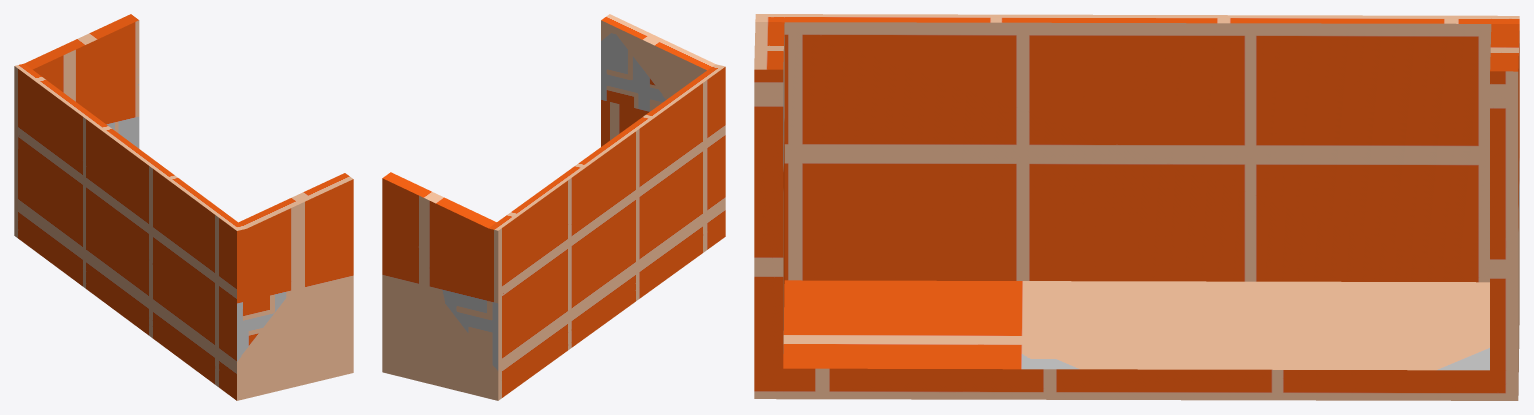
File: düz_balkon.fbx
The picture shows the model from 3 angles, left to right: view 1: azimuth 30°, elevation 25°; view 2: azimuth 150°, elevation 25°; view 3: azimuth 270°, elevation 25°; orthographic projection. The views are drawn at different scales.
Parts seen in each view (by area): view 1: Cube.001; view 2: Cube.001; view 3: Cube.001.
Part boxes in pixels (bbox=[...]): Cube.001: bbox=[14, 14, 353, 400]; Cube.001: bbox=[382, 14, 725, 400]; Cube.001: bbox=[754, 14, 1519, 400].
Bounding box in the file's own units: 2061 × 3226 × 6793.
